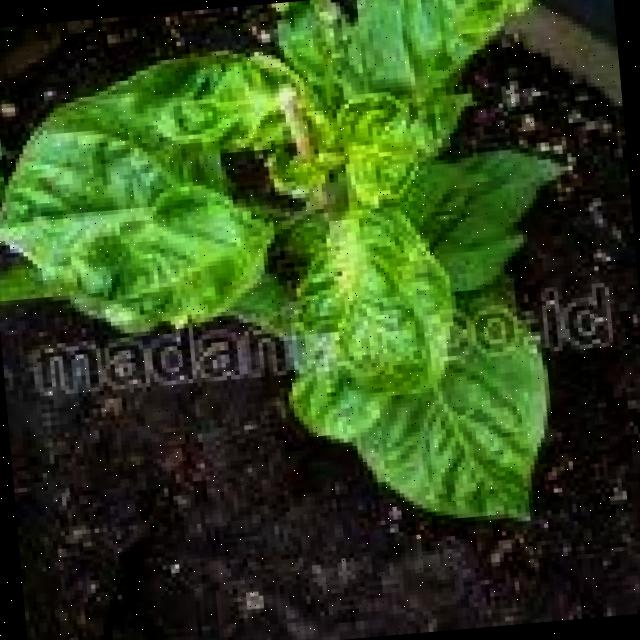leaf curl: (0, 0, 519, 329)
